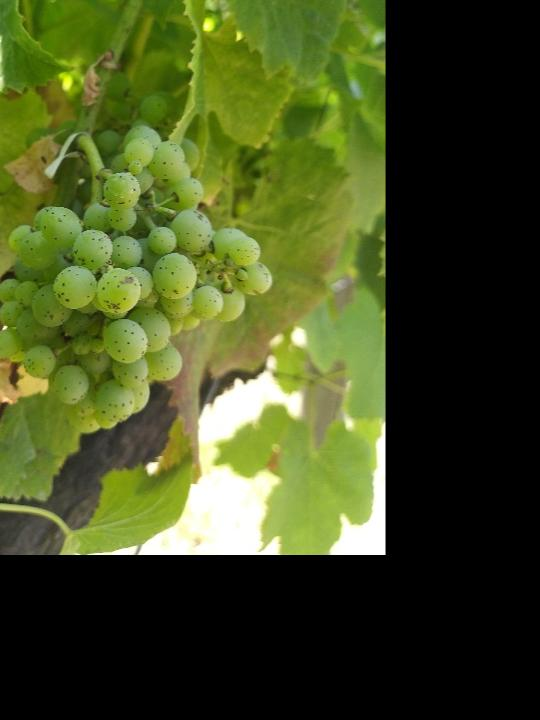grape: (0, 122, 274, 435)
